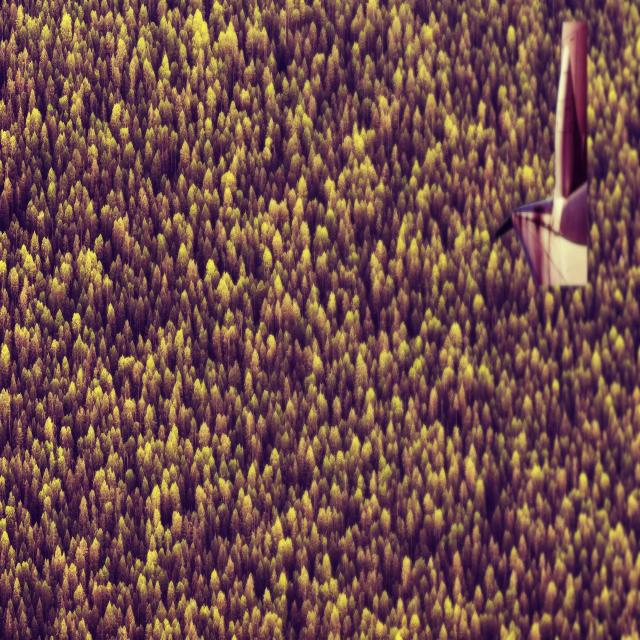airplane: (494, 18, 588, 288)
